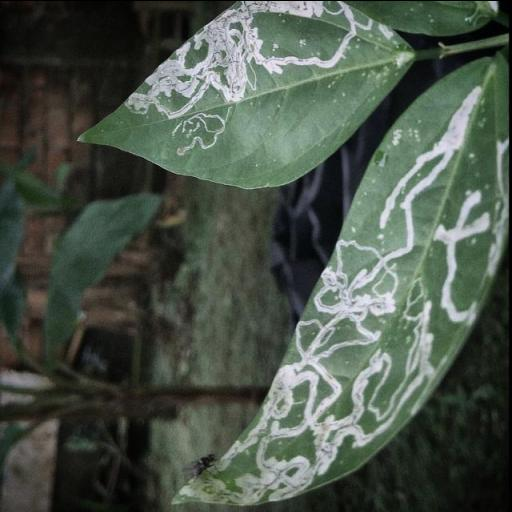disease_tomato: (167, 55, 512, 504), (72, 0, 414, 192)
